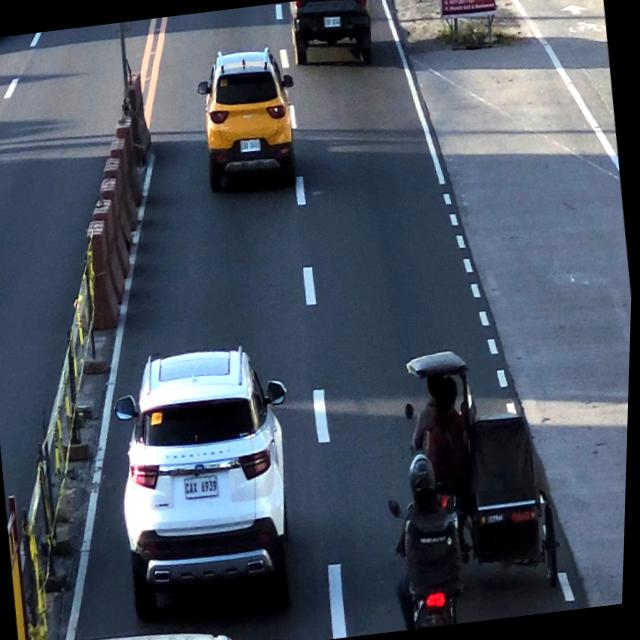Car: (110, 341, 309, 614), (191, 47, 304, 192), (283, 0, 382, 68)
License-Plate: (185, 473, 223, 501), (238, 137, 266, 158), (323, 14, 343, 28)
Motorcycle: (390, 454, 476, 630)
Tricycle: (396, 328, 557, 469)
